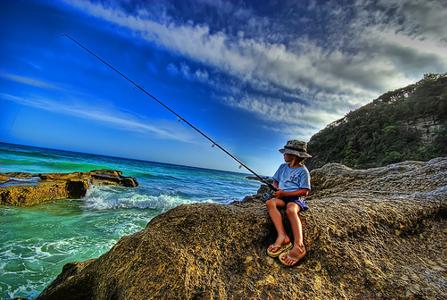person: (265, 140, 313, 267)
